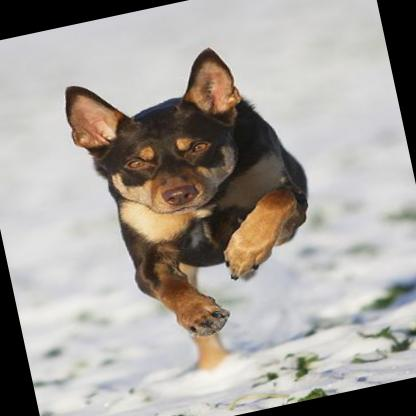kelpie: (50, 29, 341, 388)
